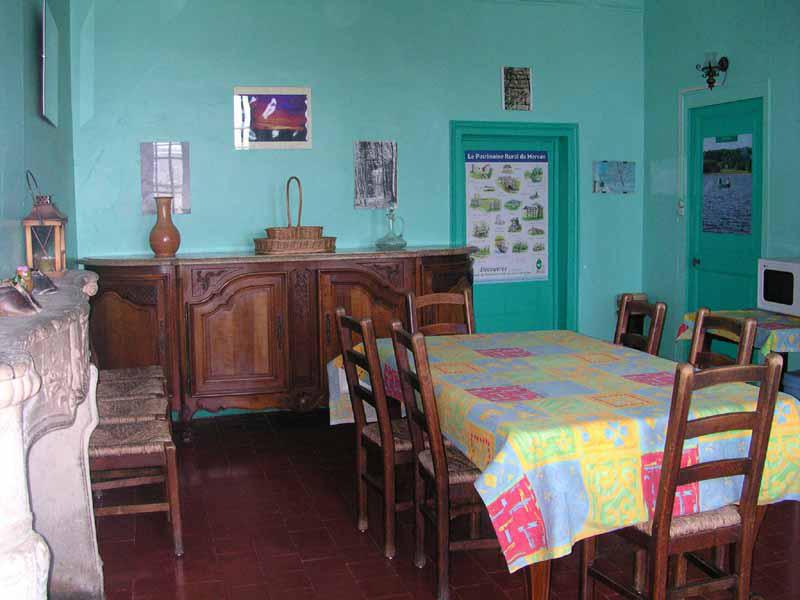Puerta: (453, 130, 578, 325), (689, 96, 758, 305)
